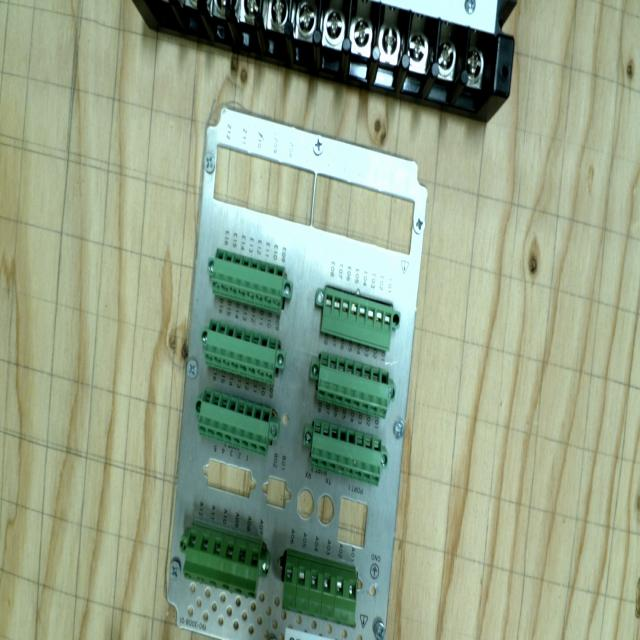Terminal_1: (177, 529, 269, 599), (274, 561, 367, 628)
Terminal_2: (191, 387, 280, 456), (301, 419, 391, 487), (309, 352, 398, 419), (198, 319, 286, 385), (205, 248, 292, 313)
